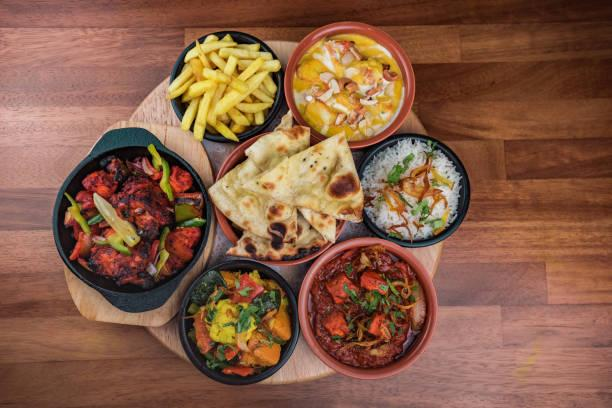Braised Crucian Carp: (52, 128, 209, 311), (296, 235, 437, 379), (213, 132, 348, 266), (283, 21, 415, 151), (179, 257, 300, 383), (166, 30, 281, 144), (355, 134, 468, 248)
